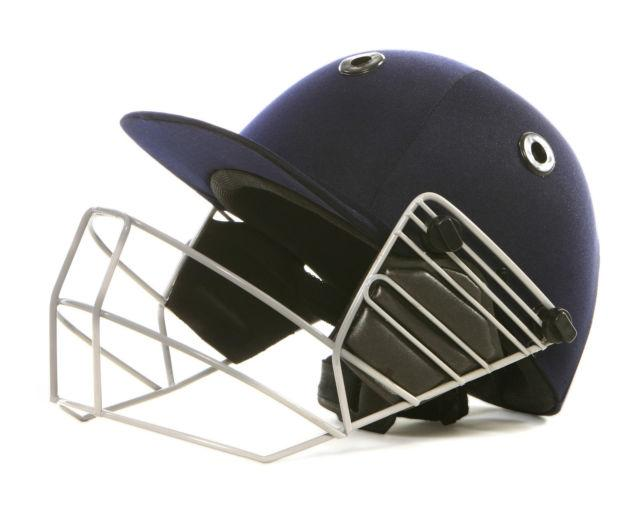helmet: (22, 80, 613, 492)
